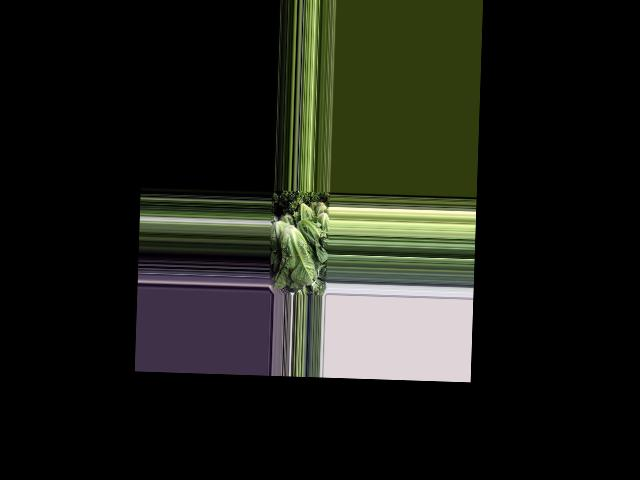lettuce: (296, 217, 327, 264)
